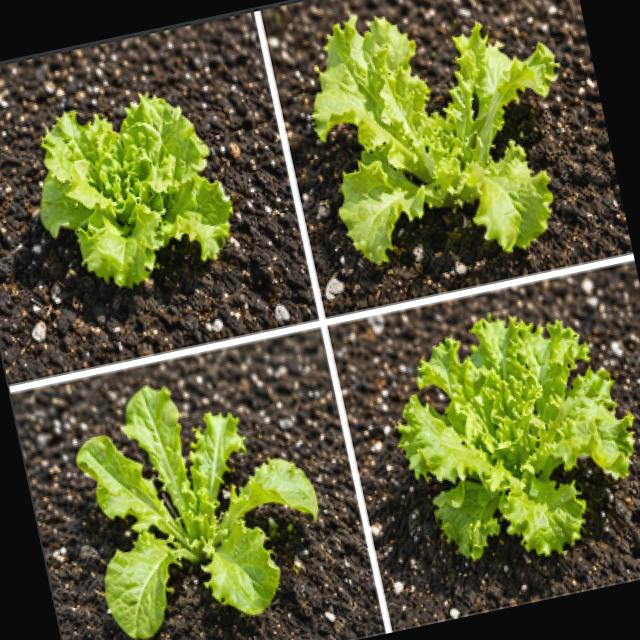inmadura: (75, 385, 315, 634), (313, 15, 555, 260), (396, 316, 632, 558), (40, 93, 231, 285)
